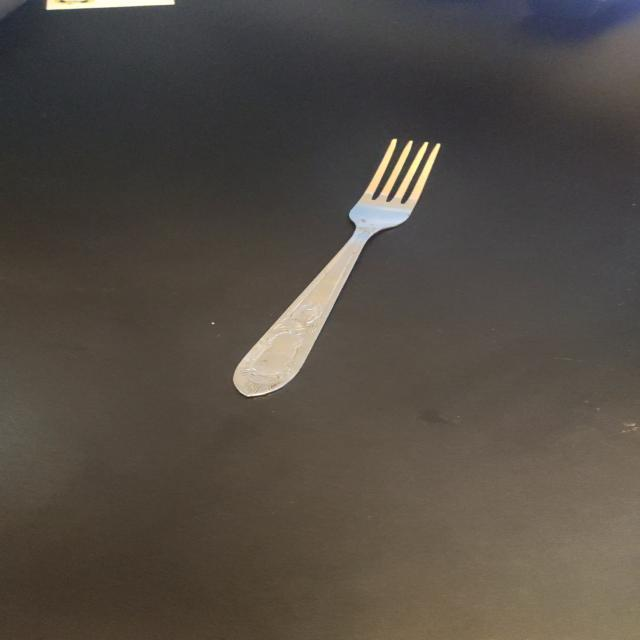plastic utensil: (233, 139, 440, 396)
